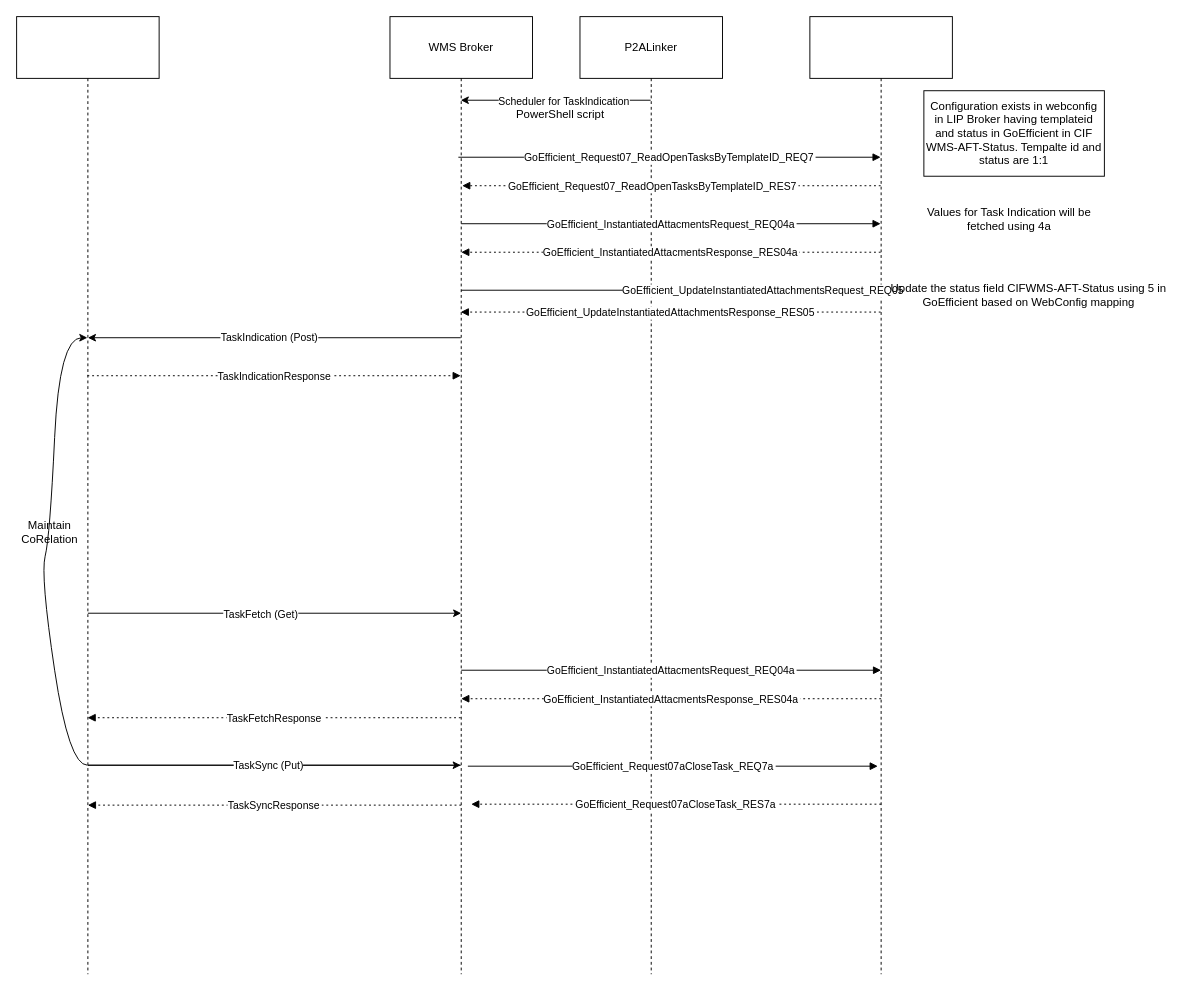
The diagram is 1192 pixels wide and 991 high, and some of its shapes have lost their labels. The shapes that lost their labels are listed below. From the top down, each one's box as (x1, y1, x2, y2) in pixels, then its label:
(16, 16, 159, 974): CIF WMS Beheerder
(809, 16, 952, 974): GoEfficient
